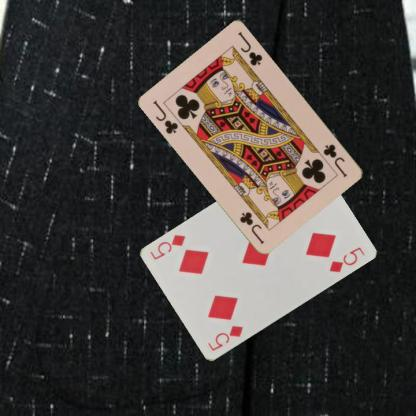5d: (205, 323, 245, 352)
Jc: (150, 97, 180, 136), (321, 142, 348, 179)
